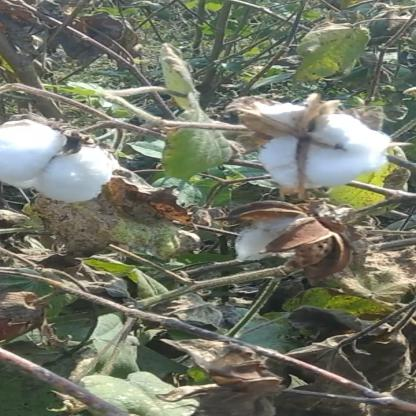cotton_ready: (232, 75, 400, 210), (1, 112, 112, 214)
